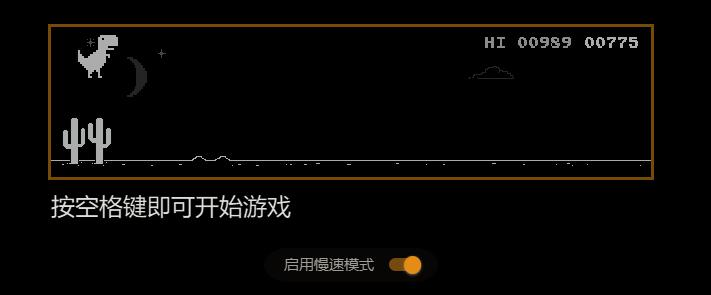cactus: (61, 117, 112, 166)
dino: (76, 34, 118, 80)
